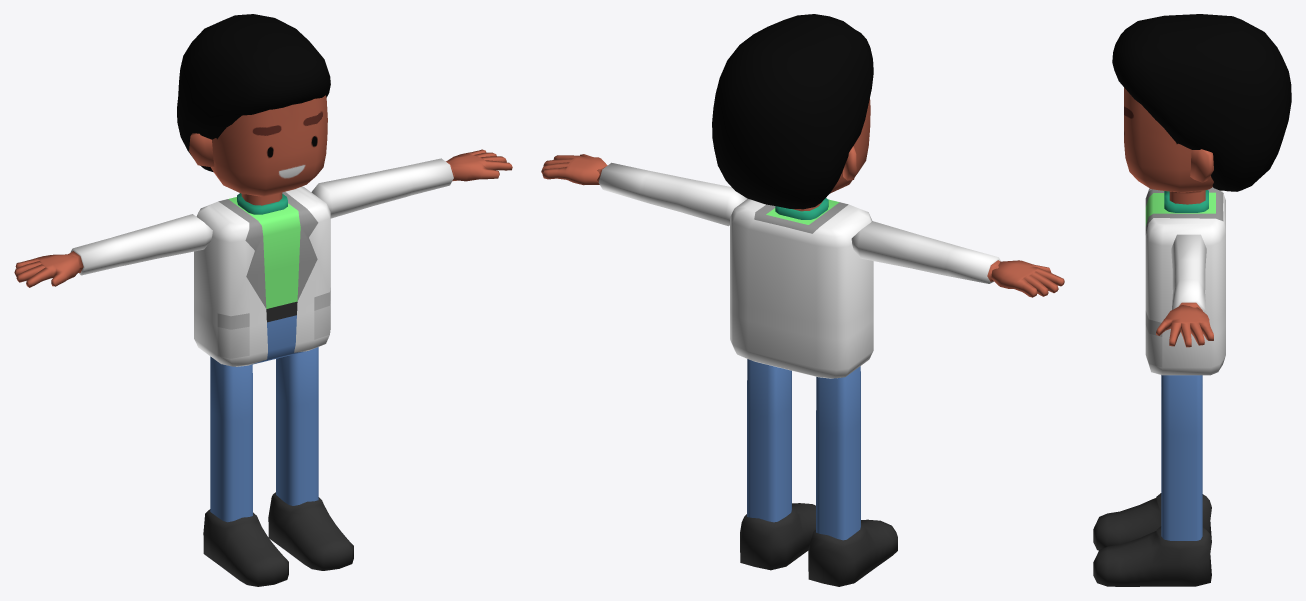
Rendered from NPC_Black01_BlackHair04.gltf.
3 views of the same model, side by side, from view 1: azimuth 30°, elevation 25°; view 2: azimuth 150°, elevation 25°; view 3: azimuth 270°, elevation 25° (orthographic). The views are drawn at different scales.
Parts seen in each view (by area): view 1: NPC_Corpo_Black1_BlackHair.004; view 2: NPC_Corpo_Black1_BlackHair.004; view 3: NPC_Corpo_Black1_BlackHair.004.
Boxes of the visible parts, bbox=[...] form: NPC_Corpo_Black1_BlackHair.004: bbox=[14, 14, 512, 586]; NPC_Corpo_Black1_BlackHair.004: bbox=[541, 14, 1064, 586]; NPC_Corpo_Black1_BlackHair.004: bbox=[1093, 14, 1291, 586].
Bounding box in the file's own units: 2.31 × 2.3 × 0.7742.
1 material, 1 textured.
